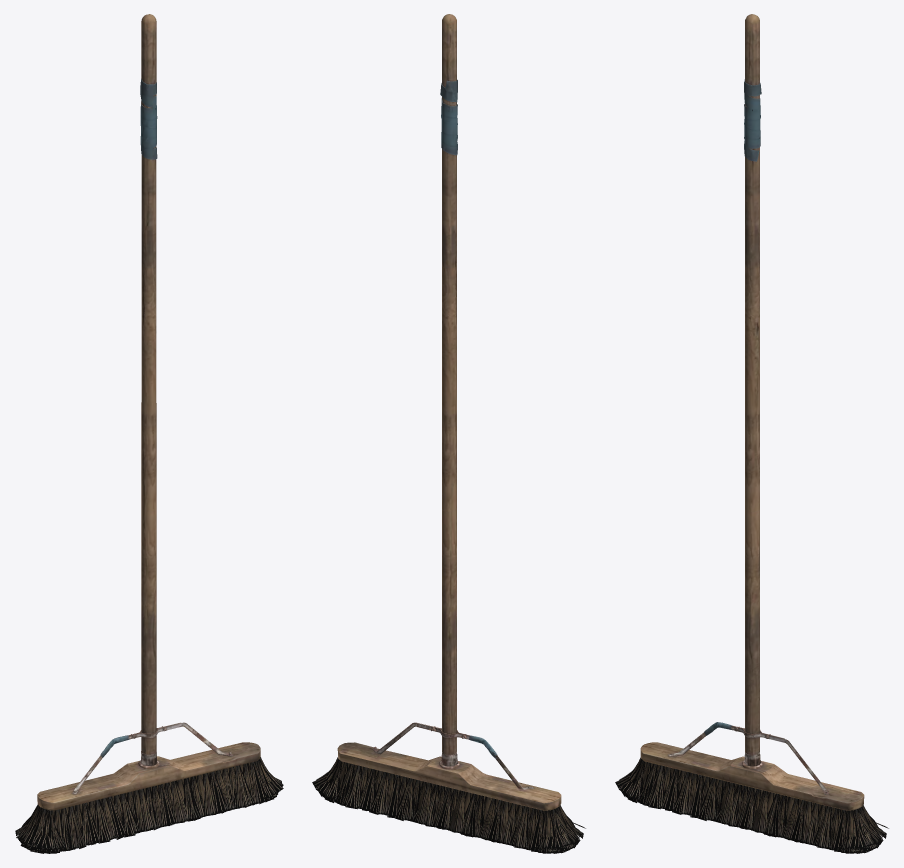
File: wooden_broom.glb
3 renders of one model, left to right at view 1: azimuth 30°, elevation 25°; view 2: azimuth 150°, elevation 25°; view 3: azimuth 330°, elevation 25°, orthographic.
Visible parts, largest first — view 1: wooden_broom_handle, wooden_broom_bristles; view 2: wooden_broom_handle, wooden_broom_bristles; view 3: wooden_broom_handle, wooden_broom_bristles.
Part boxes in pixels (<box>): wooden_broom_handle: <box>37,14,260,810</box>; wooden_broom_bristles: <box>15,757,283,853</box>; wooden_broom_handle: <box>337,14,561,810</box>; wooden_broom_bristles: <box>312,757,585,853</box>; wooden_broom_handle: <box>640,14,864,810</box>; wooden_broom_bristles: <box>615,757,888,853</box>.
Size of the model in its own units: 0.4902 by 1.45 by 0.1125.
Materials: 2 (2 with a texture image).
